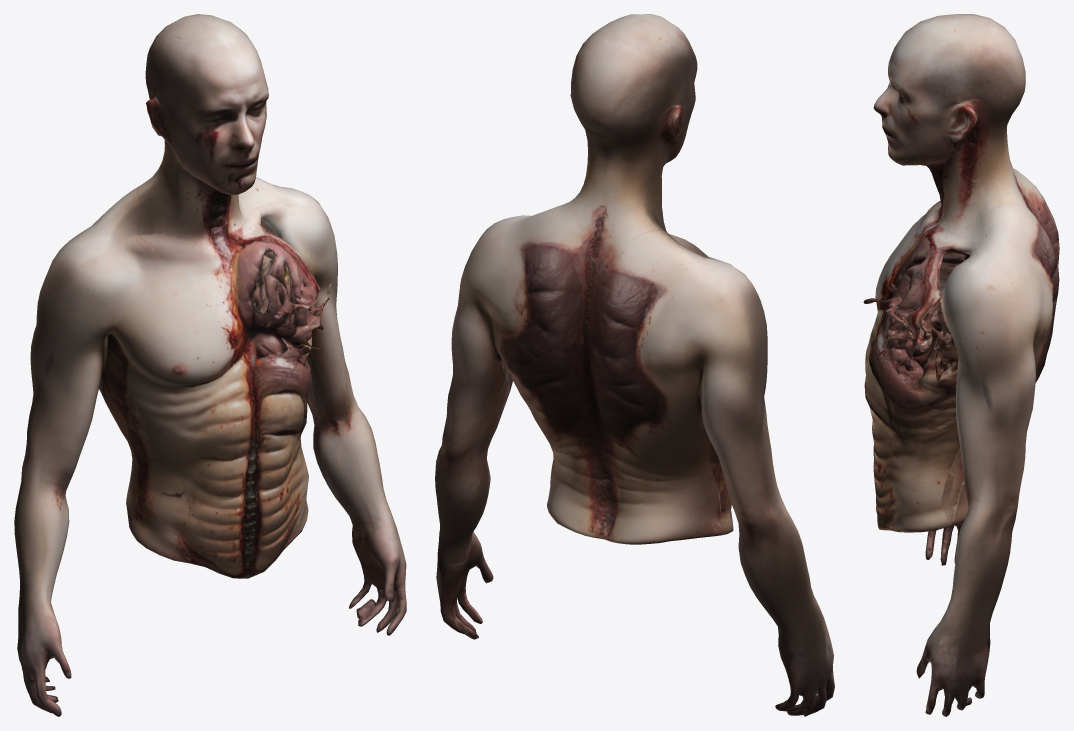
The model's file is a_human_bellly_with_g_0214221227_texture.glb.
3 renders of one model, left to right at view 1: azimuth 30°, elevation 25°; view 2: azimuth 150°, elevation 25°; view 3: azimuth 270°, elevation 25°, orthographic. The views are drawn at different scales.
Size of the model in its own units: 1.23 by 2 by 0.5722.
Materials: 1 (1 with a texture image).
